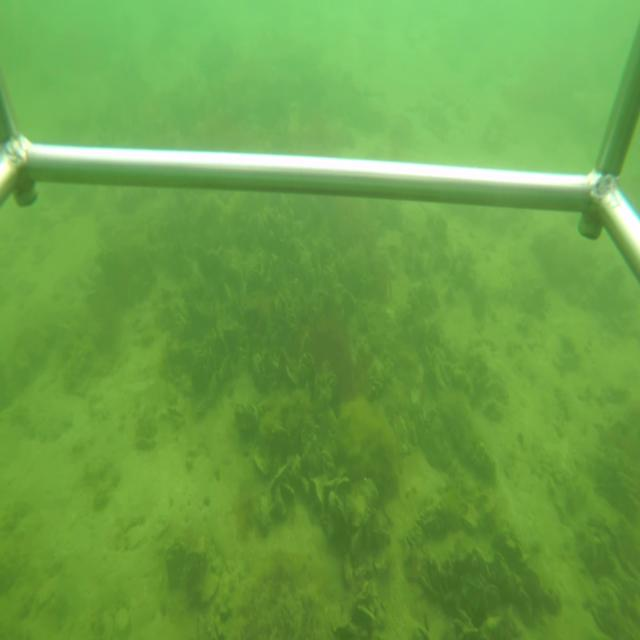Oyster-Indeterminate: (311, 475, 326, 516), (252, 454, 271, 480), (284, 361, 297, 388)
Oyster-Open: (275, 480, 296, 521), (399, 532, 419, 567)
